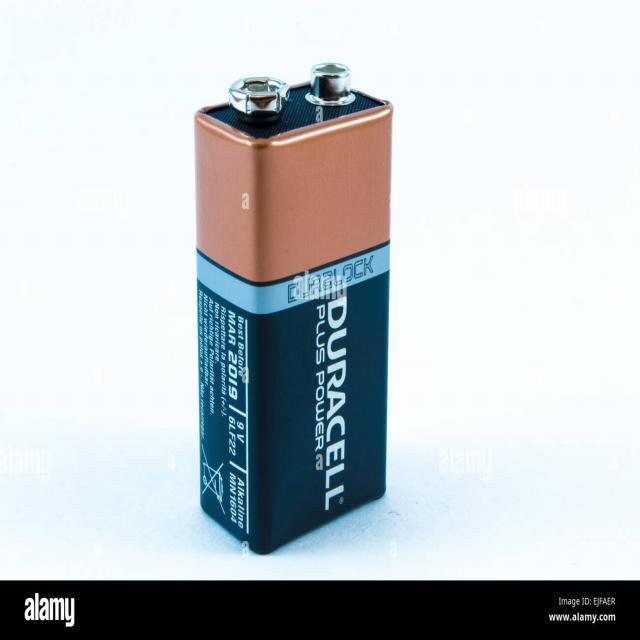Hazard: (191, 62, 395, 560)
